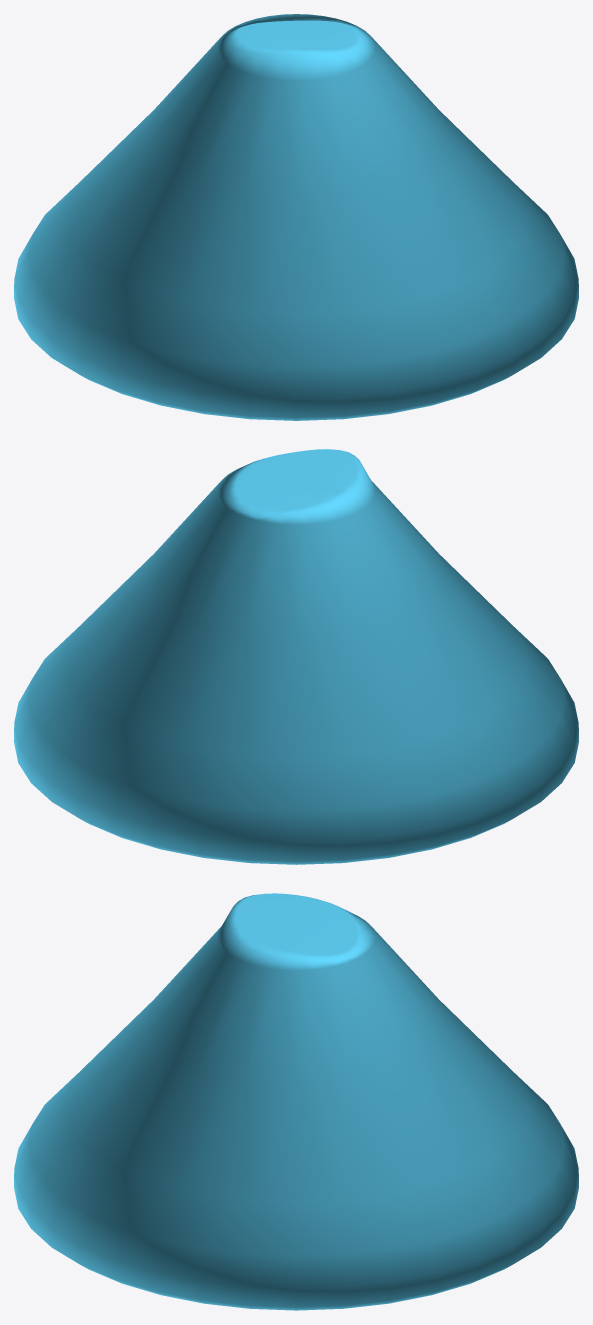
Rendered from Liquid (1).FBX.
The picture shows the model from 3 angles, top to bottom: view 1: azimuth 30°, elevation 25°; view 2: azimuth 150°, elevation 25°; view 3: azimuth 270°, elevation 25°; orthographic projection.
Parts seen in each view (by area): view 1: Beaker_Liquid; view 2: Beaker_Liquid; view 3: Beaker_Liquid.
Boxes of the visible parts, x1,y1,x2,y2 form: Beaker_Liquid: (14, 14, 578, 420); Beaker_Liquid: (14, 449, 578, 864); Beaker_Liquid: (14, 893, 578, 1310).
Size of the model in its own units: 33.93 by 18.94 by 33.93.
